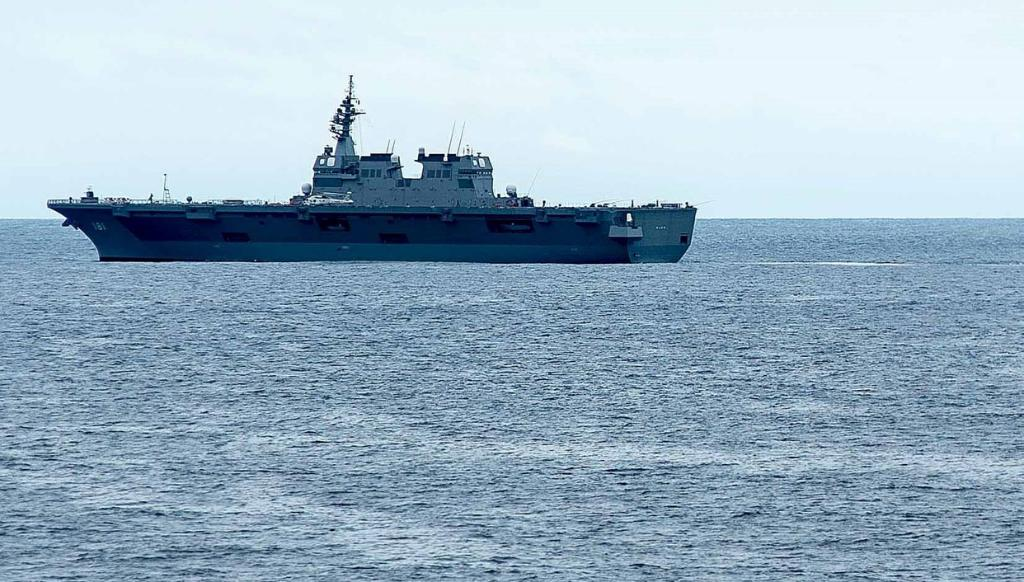Warship: (38, 81, 708, 273)
